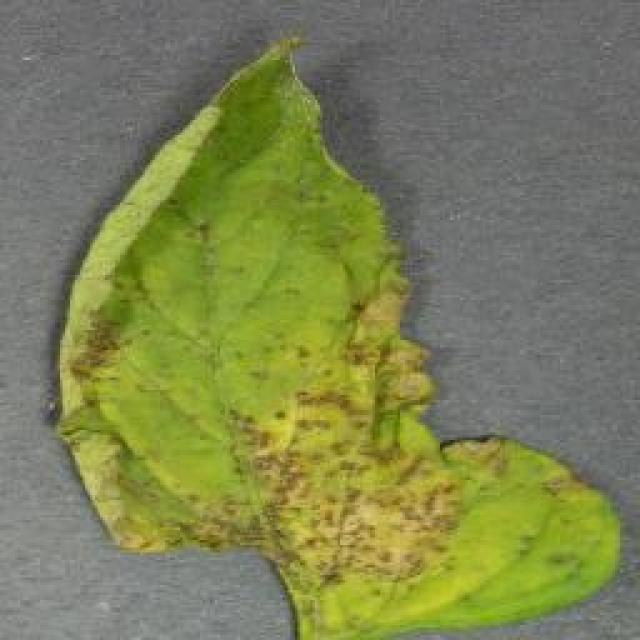Tomato bacterial spot leaf: (64, 57, 614, 640)
